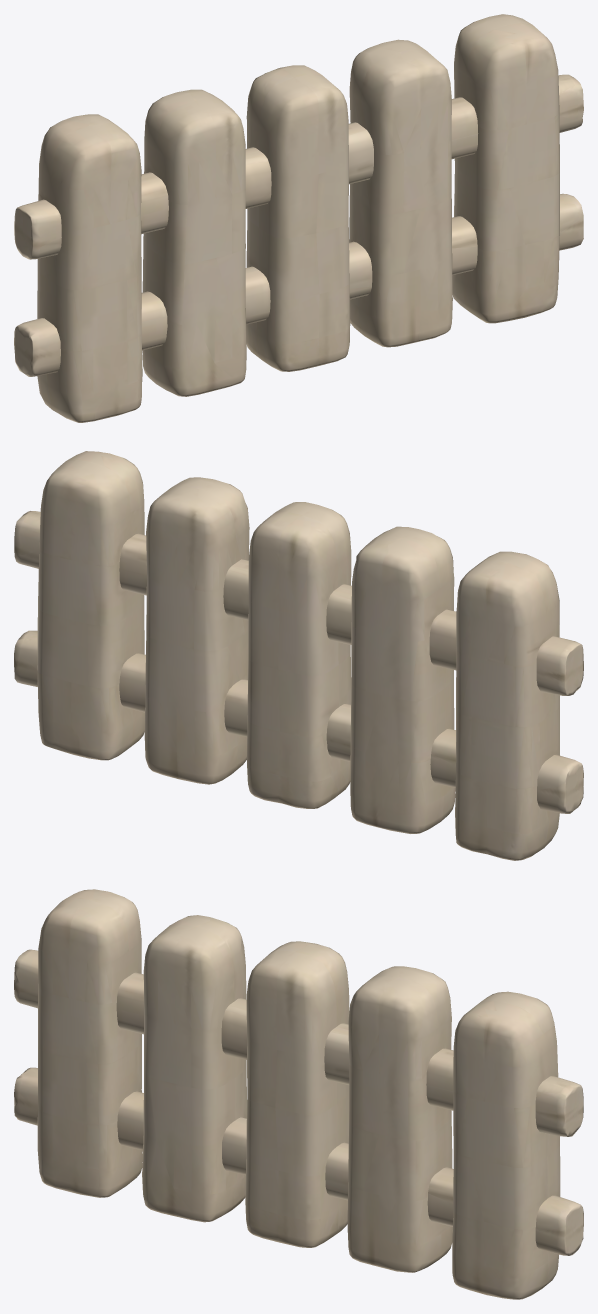
File: fence.glb
The picture shows the model from 3 angles, top to bottom: view 1: azimuth 30°, elevation 25°; view 2: azimuth 150°, elevation 25°; view 3: azimuth 330°, elevation 25°; orthographic projection.
Bounding box in the file's own units: 1 × 0.4885 × 0.133.
1 material, 1 textured.
